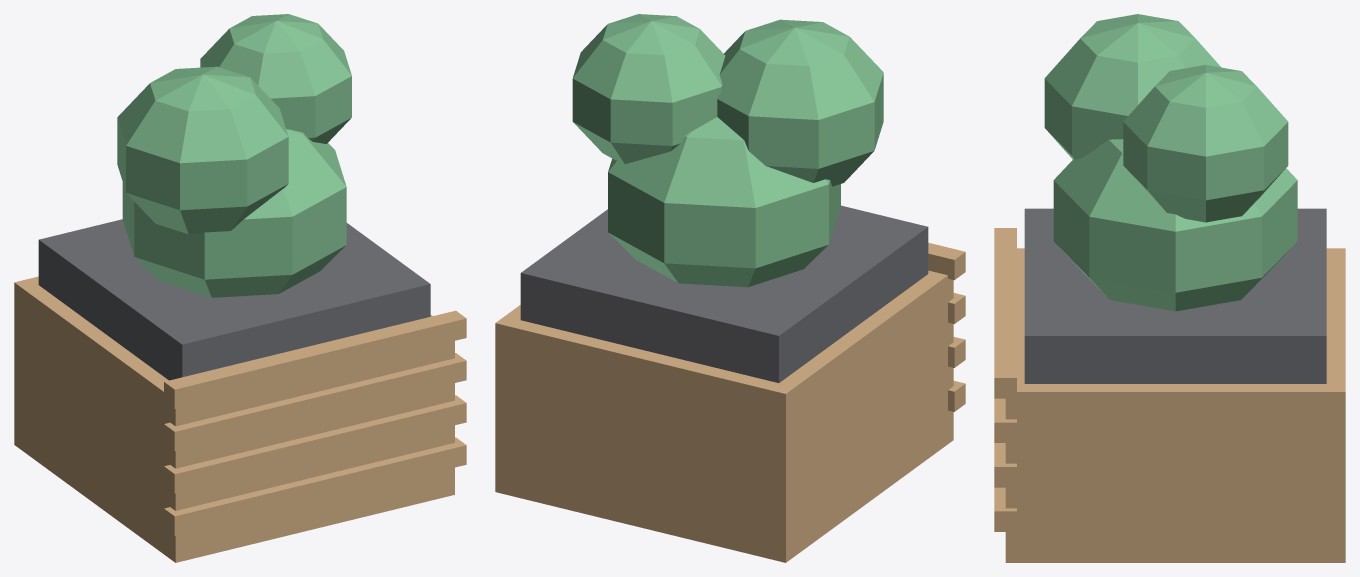
The model's file is planter.glb.
3 views of the same model, side by side, from view 1: azimuth 30°, elevation 25°; view 2: azimuth 150°, elevation 25°; view 3: azimuth 270°, elevation 25° (orthographic). The views are drawn at different scales.
Parts seen in each view (by area): view 1: planter-with-shrub-timber, planter-with-shrub-leaf, planter-with-shrub-charcoal; view 2: planter-with-shrub-timber, planter-with-shrub-leaf, planter-with-shrub-charcoal; view 3: planter-with-shrub-timber, planter-with-shrub-leaf, planter-with-shrub-charcoal.
Part boxes in pixels (x1,y1,x2,y2): planter-with-shrub-timber: (14,276,466,562); planter-with-shrub-leaf: (117,14,351,297); planter-with-shrub-charcoal: (38,219,430,380); planter-with-shrub-timber: (495,242,965,562); planter-with-shrub-leaf: (572,14,883,287); planter-with-shrub-charcoal: (520,205,928,382); planter-with-shrub-timber: (994,228,1345,562); planter-with-shrub-leaf: (1044,14,1297,311); planter-with-shrub-charcoal: (1024,208,1326,383).
Size of the model in its own units: 0.94 by 1.31 by 0.93.
